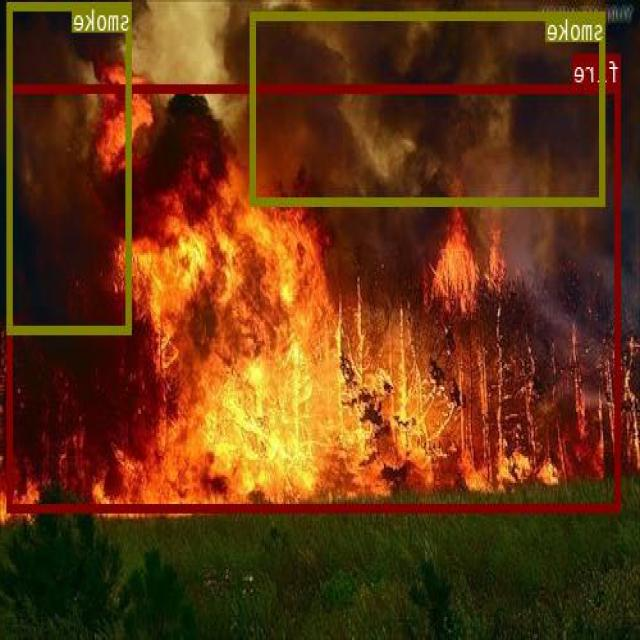fire: (8, 82, 622, 510)
smoke: (252, 12, 606, 205), (8, 1, 132, 332)
